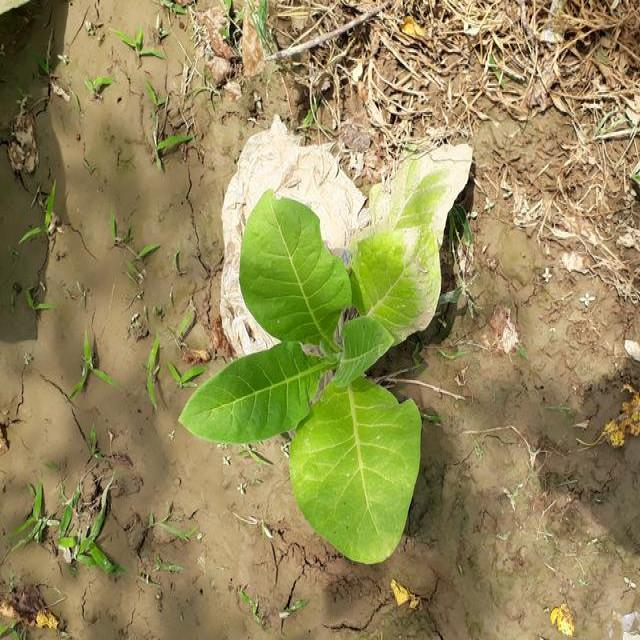crop: (180, 142, 478, 564)
